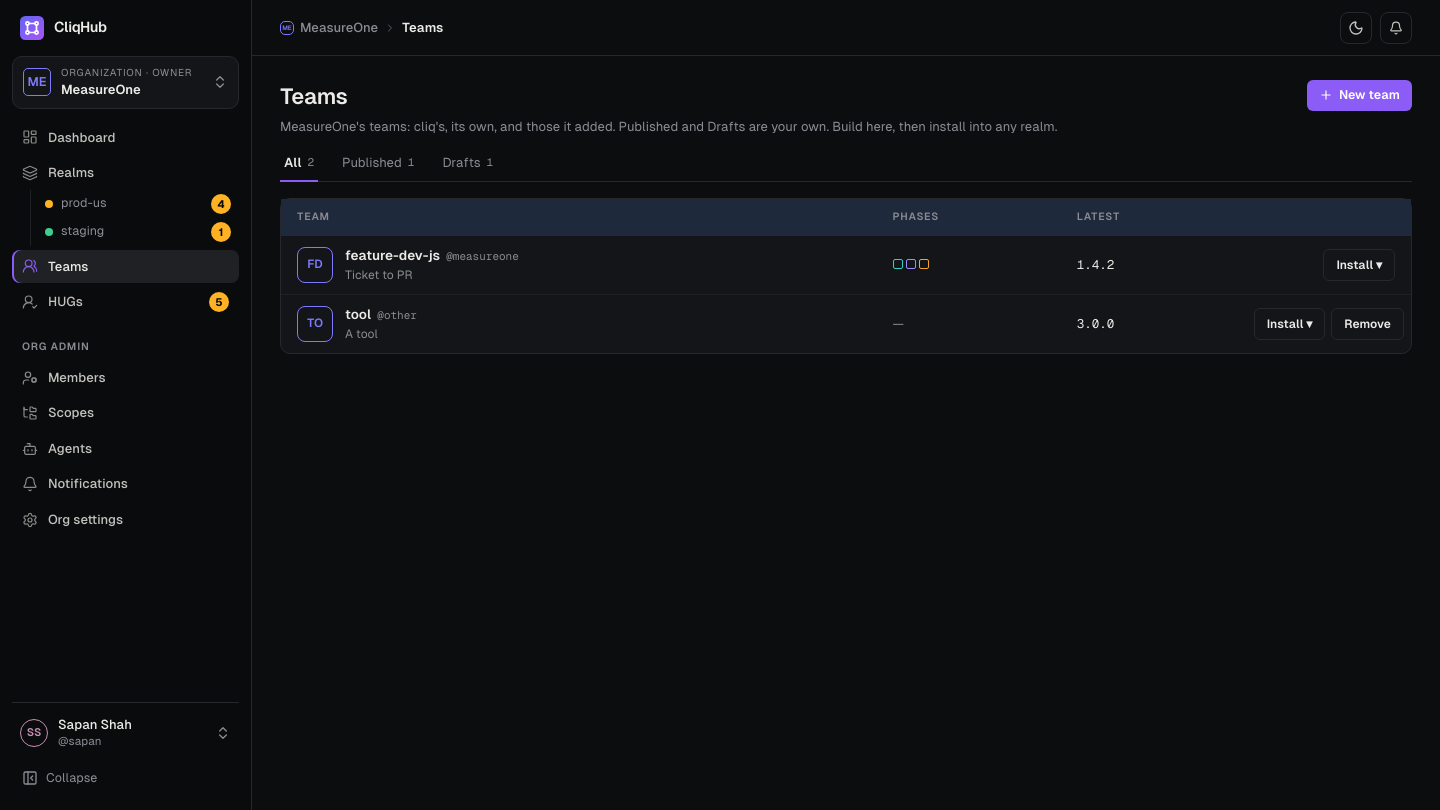
Test case: Build › Teams list › only a team the org added has Remove; it takes it off the Teams list (PLAN-team-visibility §3.6)
Click the button "Remove".
click(1368, 324)  # box left=1331, top=308, right=1404, bottom=340
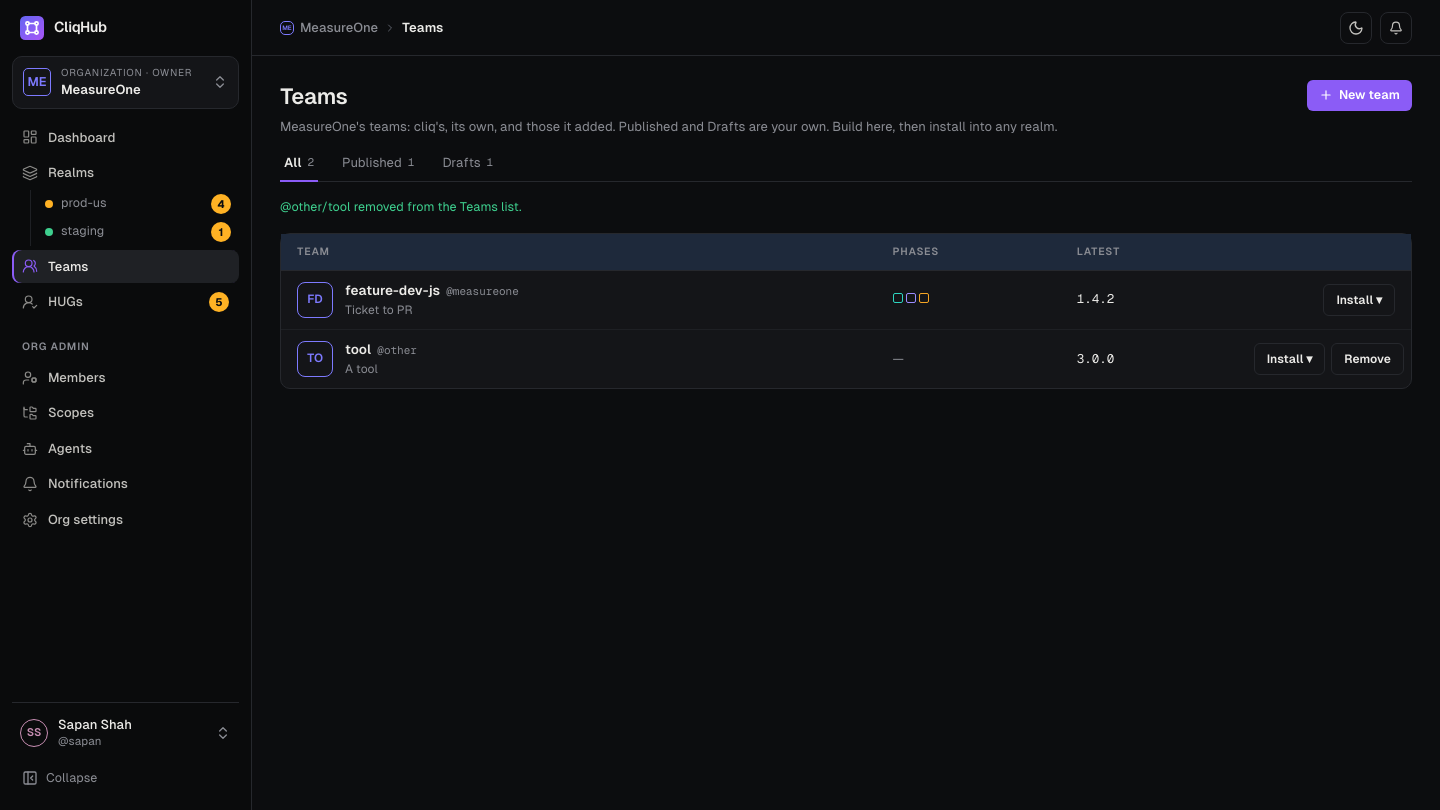
expect the text "@other/tool removed from the Teams list." is shown: met, box left=280, top=199, right=522, bottom=214
